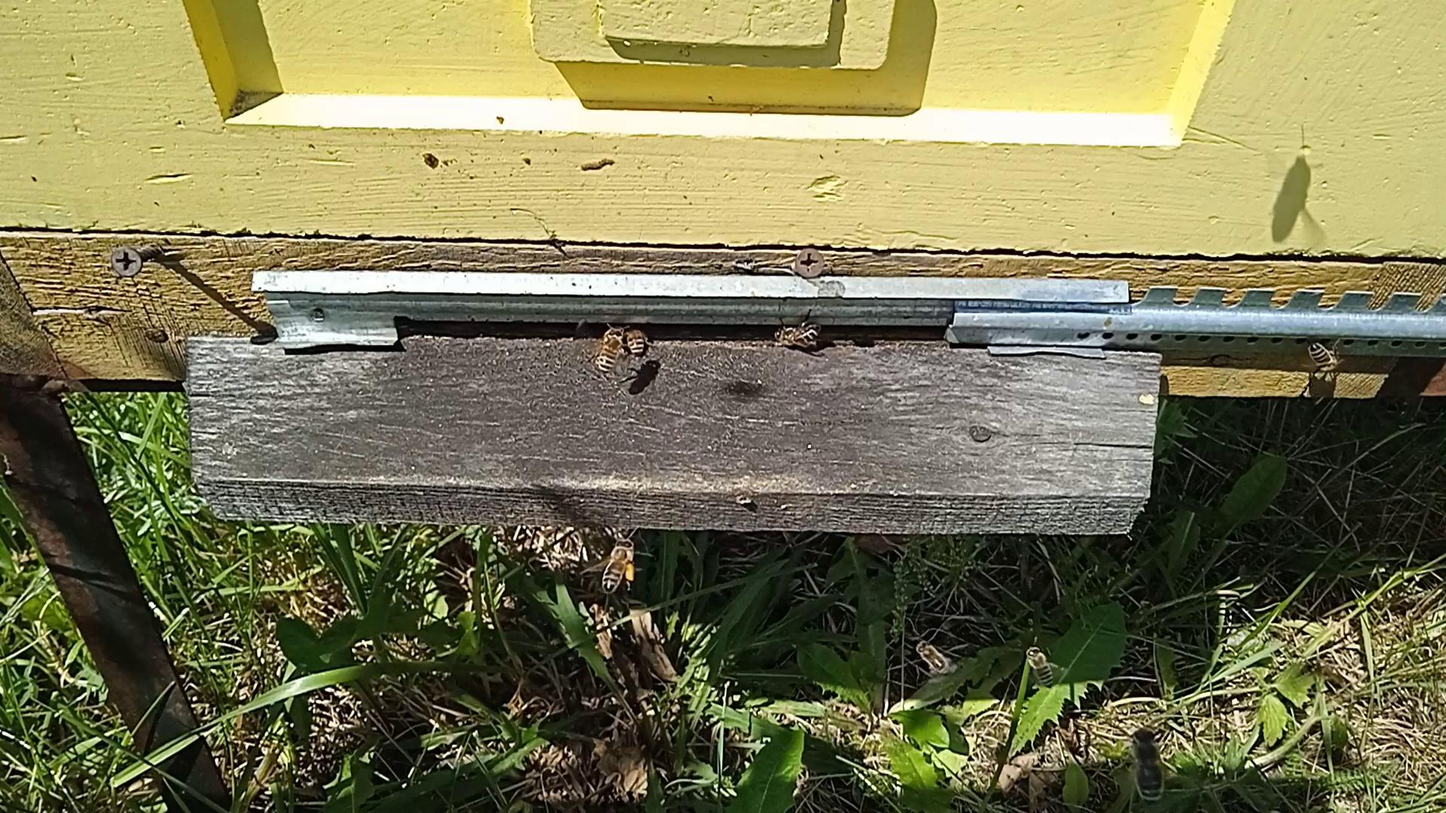worker-bee: (1128, 729, 1167, 805), (600, 537, 636, 595), (591, 327, 624, 376), (772, 322, 822, 349), (1025, 644, 1055, 687), (915, 639, 950, 672), (619, 322, 651, 358), (1304, 340, 1342, 370)
